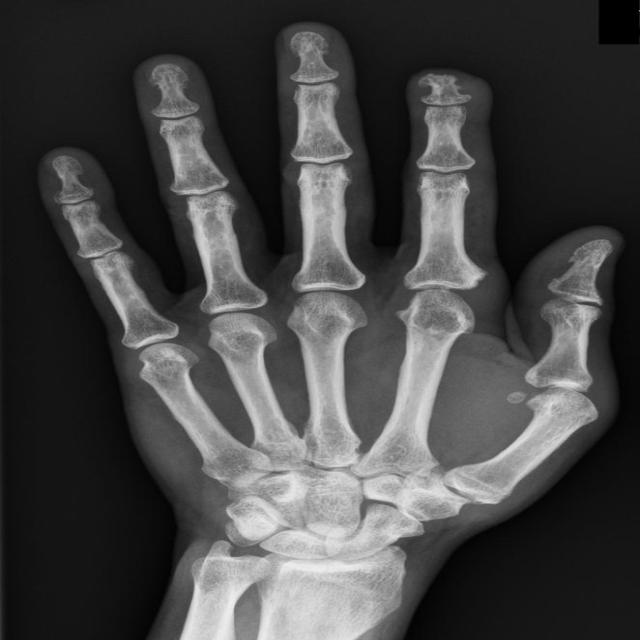fracture: (396, 58, 474, 133)
